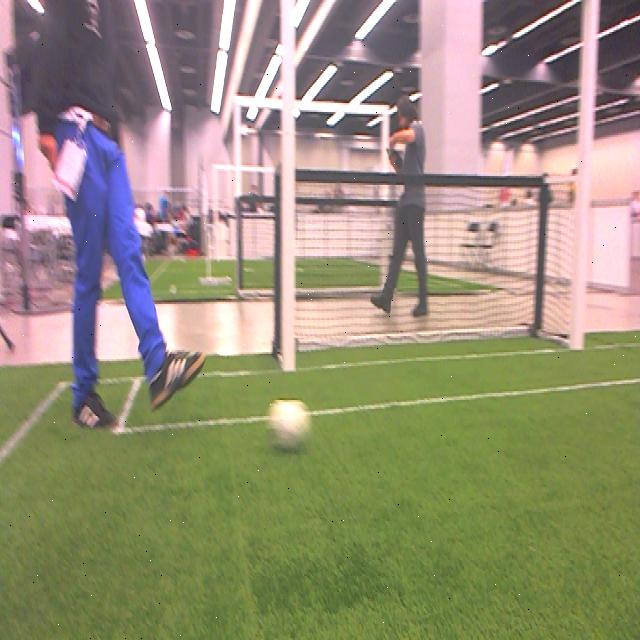ball: (267, 400, 314, 446)
goalpost: (569, 2, 600, 348), (281, 0, 297, 372)
